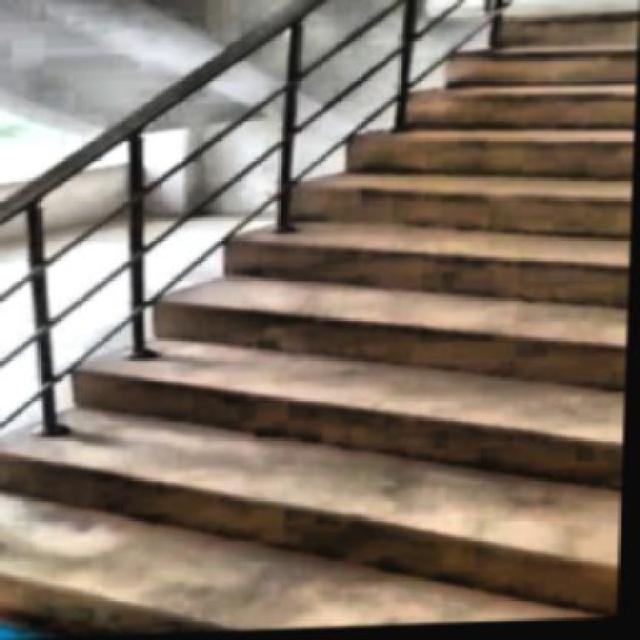stair: (0, 3, 637, 639)
